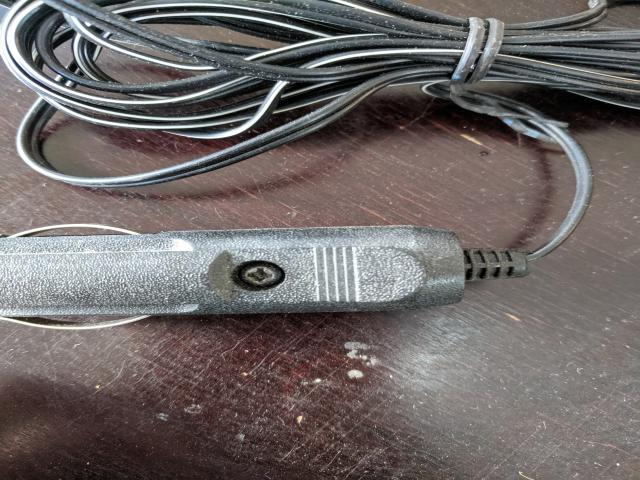CRS: (232, 259, 285, 289)
